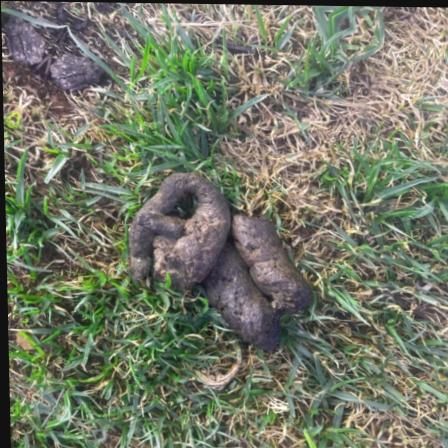dog-poop: (112, 174, 313, 343)
